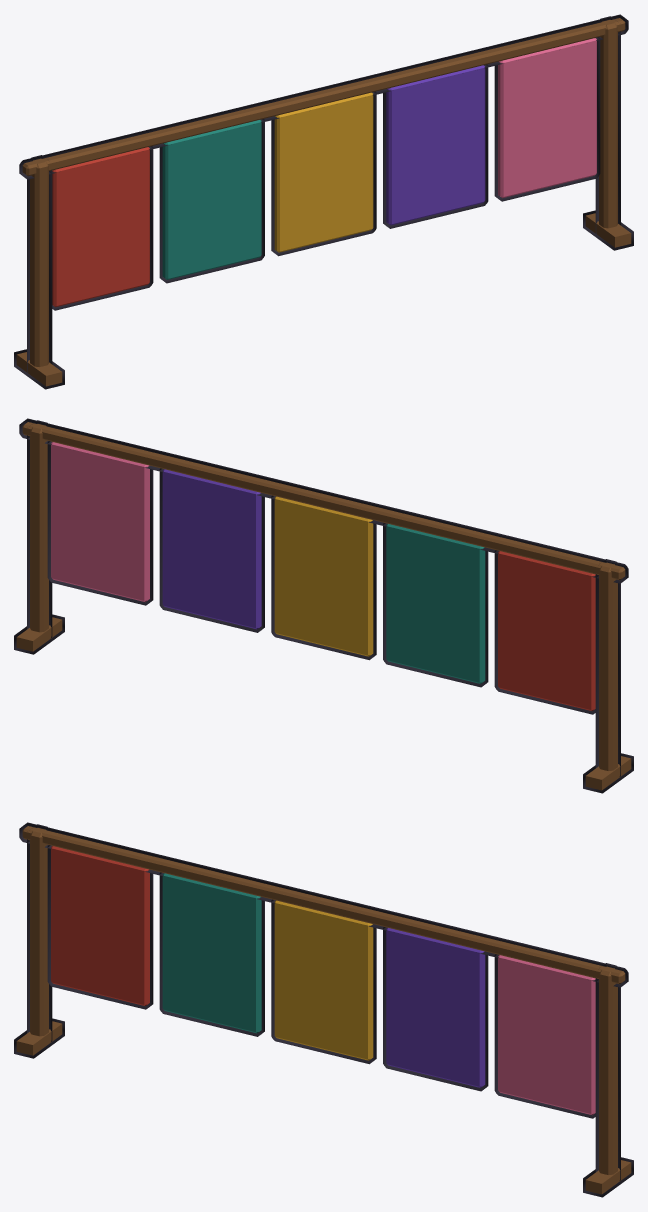
Rendered from drying_rack.glb.
3 views of the same model, one above another, from view 1: azimuth 30°, elevation 25°; view 2: azimuth 150°, elevation 25°; view 3: azimuth 330°, elevation 25° (orthographic).
Visible parts, largest first — view 1: drying_rack; view 2: drying_rack; view 3: drying_rack.
Part boxes in pixels (x1,y1,x2,y2): drying_rack: [14, 14, 633, 389]; drying_rack: [14, 418, 633, 793]; drying_rack: [14, 822, 633, 1197].
Bounding box in the file's own units: 5.95 × 2.05 × 0.5346.
